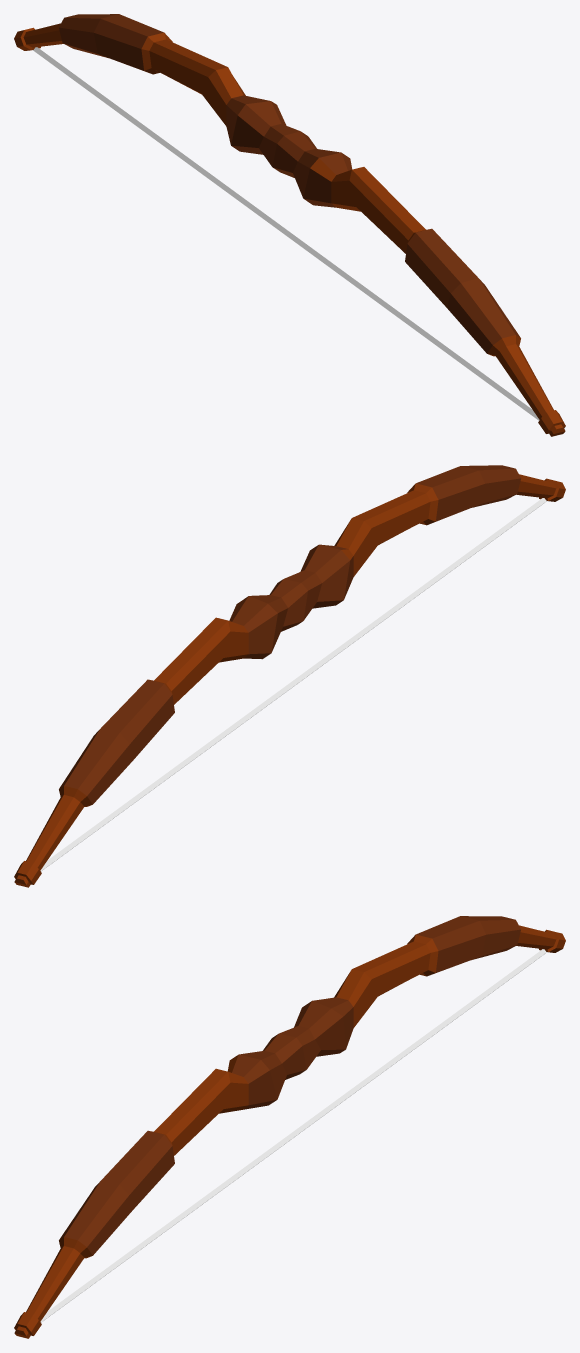
File: ARCO.fbx
3 views of the same model, one above another, from view 1: azimuth 30°, elevation 25°; view 2: azimuth 150°, elevation 25°; view 3: azimuth 330°, elevation 25° (orthographic).
Visible parts, largest first — view 1: SM_Prop_Bow_Rigged_01; view 2: SM_Prop_Bow_Rigged_01; view 3: SM_Prop_Bow_Rigged_01.
Boxes of the visible parts, x1,y1,x2,y2 form: SM_Prop_Bow_Rigged_01: (14, 14, 565, 436); SM_Prop_Bow_Rigged_01: (14, 465, 565, 887); SM_Prop_Bow_Rigged_01: (14, 916, 565, 1338).
Bounding box in the file's own units: 62.3 × 180 × 1437.
